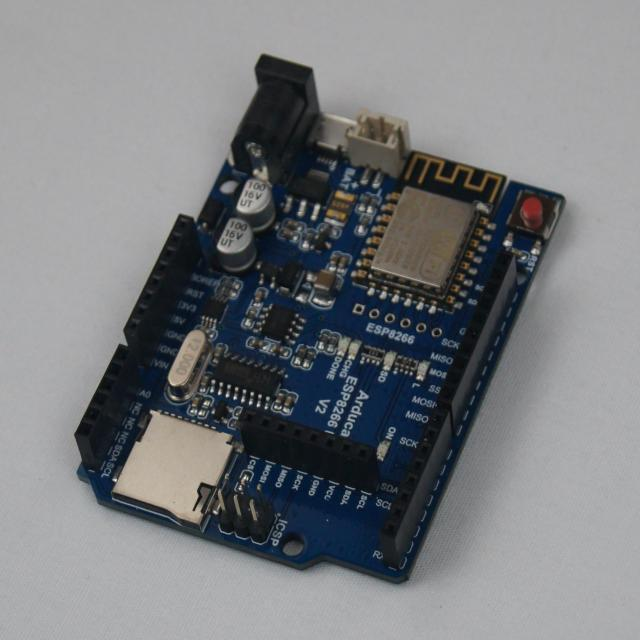Arduino Uno Camera Shield: (76, 56, 564, 583)
